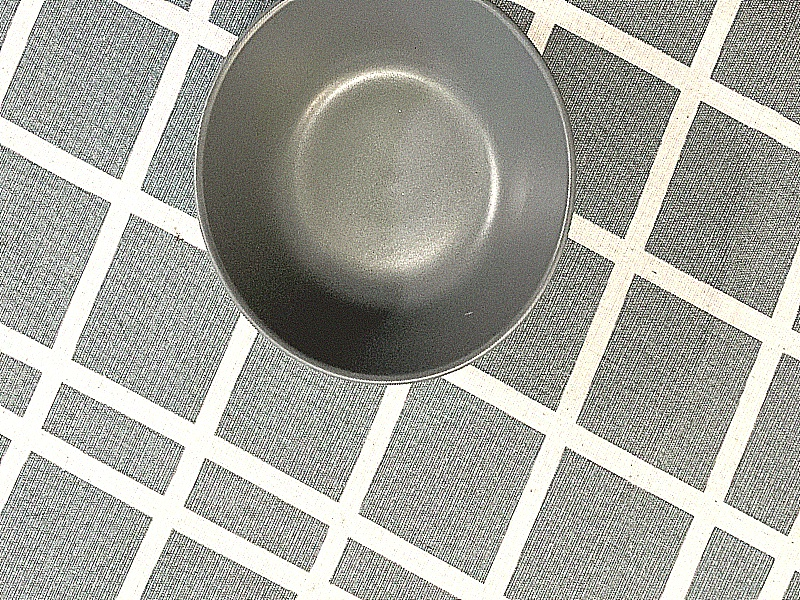bowl_big: (104, 0, 655, 465)
